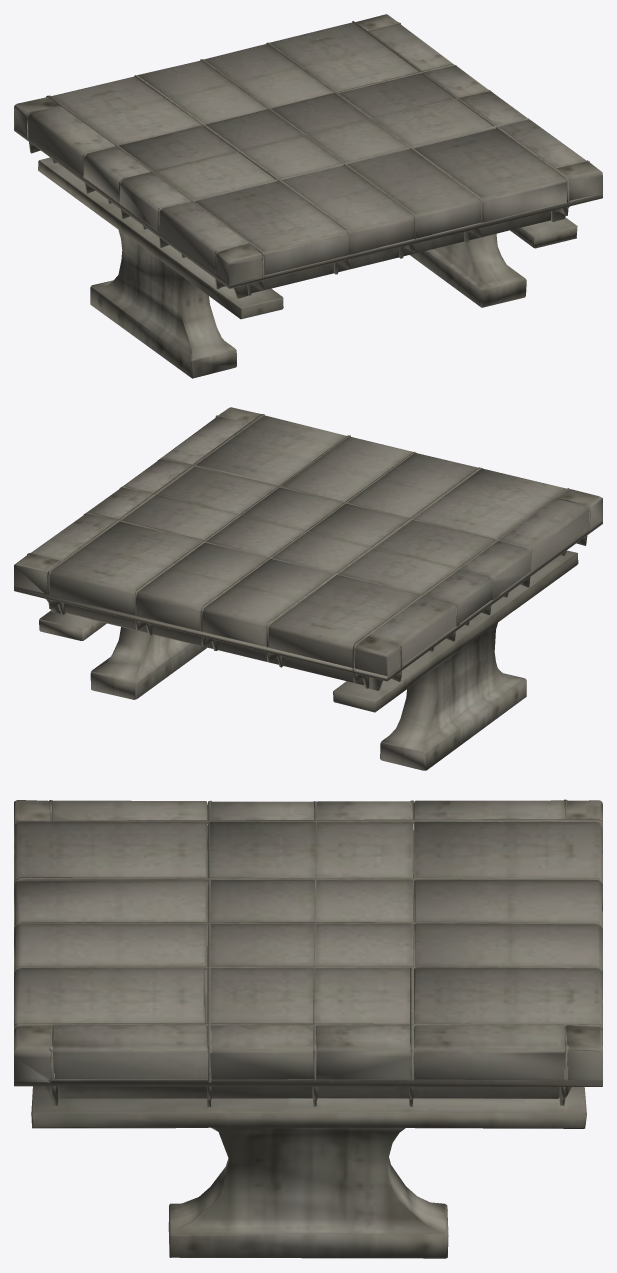
The model's file is meshy-highway-overpass.glb.
3 views of the same model, one above another, from view 1: azimuth 30°, elevation 25°; view 2: azimuth 150°, elevation 25°; view 3: azimuth 270°, elevation 25° (orthographic). The views are drawn at different scales.
Bounding box in the file's own units: 1 × 0.4222 × 1.
Materials: 1 (1 with a texture image).
